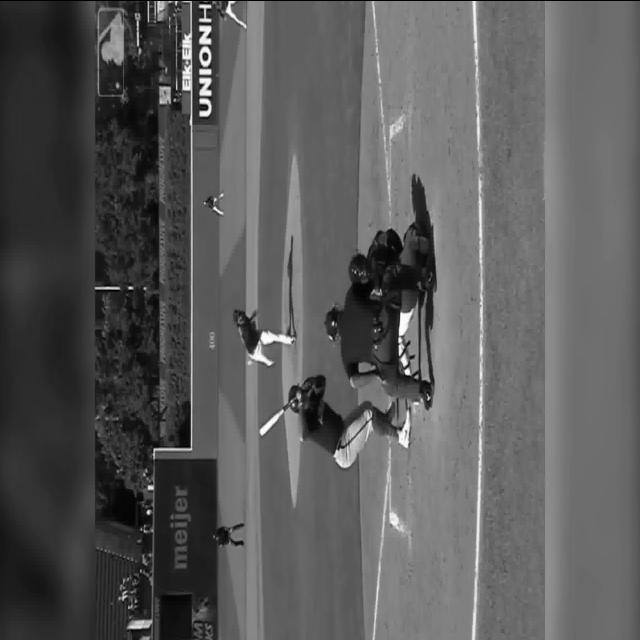bat: (259, 394, 297, 436)
shoe: (398, 408, 411, 448), (403, 221, 423, 243), (418, 268, 436, 292), (420, 380, 434, 410), (416, 234, 431, 256), (384, 399, 394, 423), (290, 334, 296, 344)
